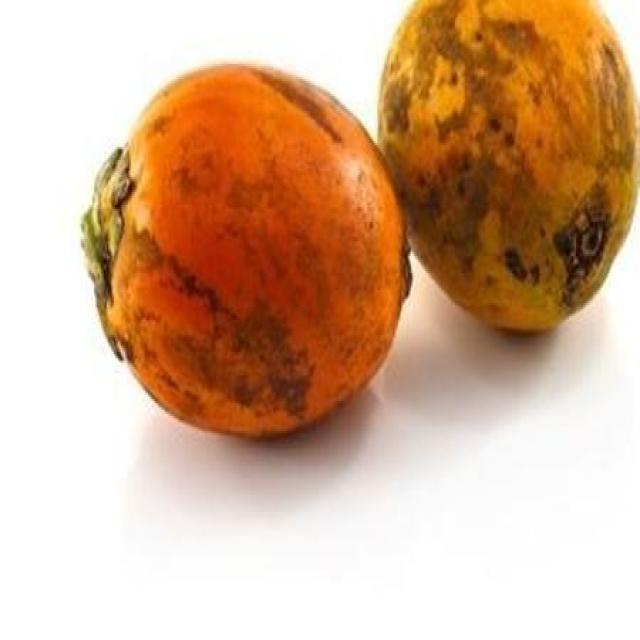good: (81, 64, 412, 442), (375, 0, 639, 337)
